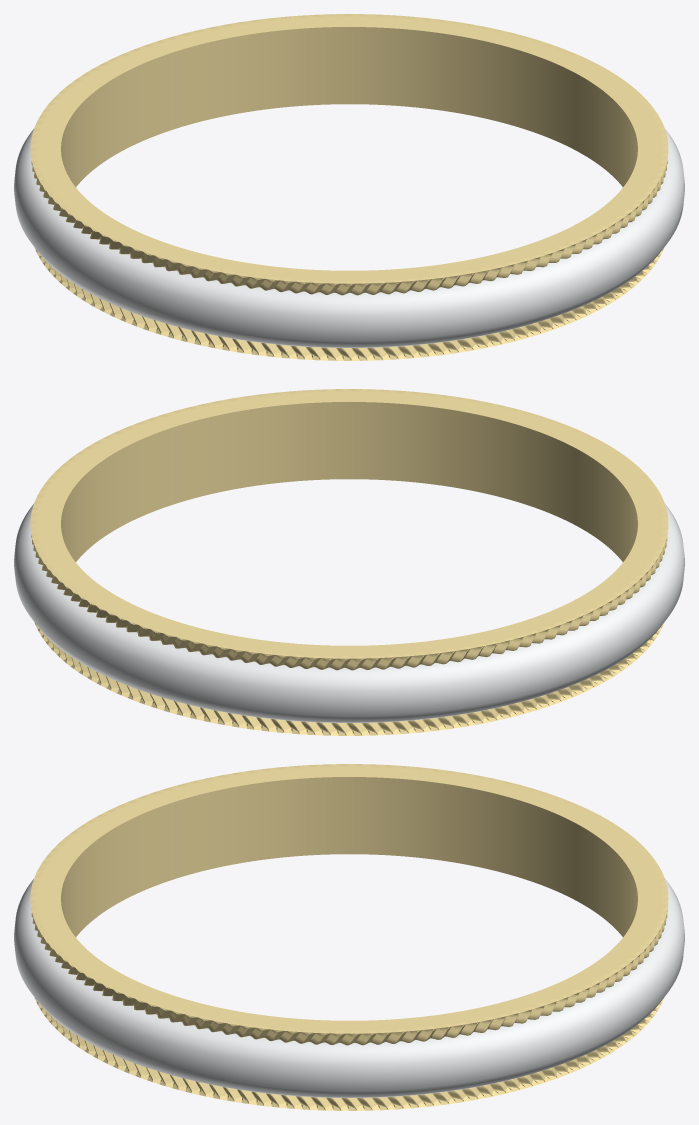
The picture shows the model from 3 angles, top to bottom: view 1: azimuth 30°, elevation 25°; view 2: azimuth 150°, elevation 25°; view 3: azimuth 270°, elevation 25°; orthographic projection.
Visible parts, largest first — view 1: Base_metal, Finishing_Metal; view 2: Base_metal, Finishing_Metal; view 3: Base_metal, Finishing_Metal.
Boxes of the visible parts, bbox=[...] form: Base_metal: bbox=[30, 14, 668, 360]; Finishing_Metal: bbox=[14, 129, 684, 347]; Base_metal: bbox=[30, 389, 668, 735]; Finishing_Metal: bbox=[14, 504, 684, 722]; Base_metal: bbox=[30, 764, 668, 1110]; Finishing_Metal: bbox=[14, 879, 684, 1097].
Bounding box in the file's own units: 2.76 × 0.3502 × 2.76.
